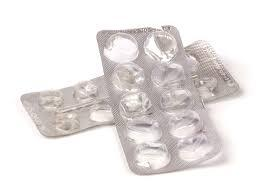pill_Strip: (97, 26, 220, 173), (21, 76, 112, 136), (21, 78, 112, 136), (185, 40, 239, 101)
